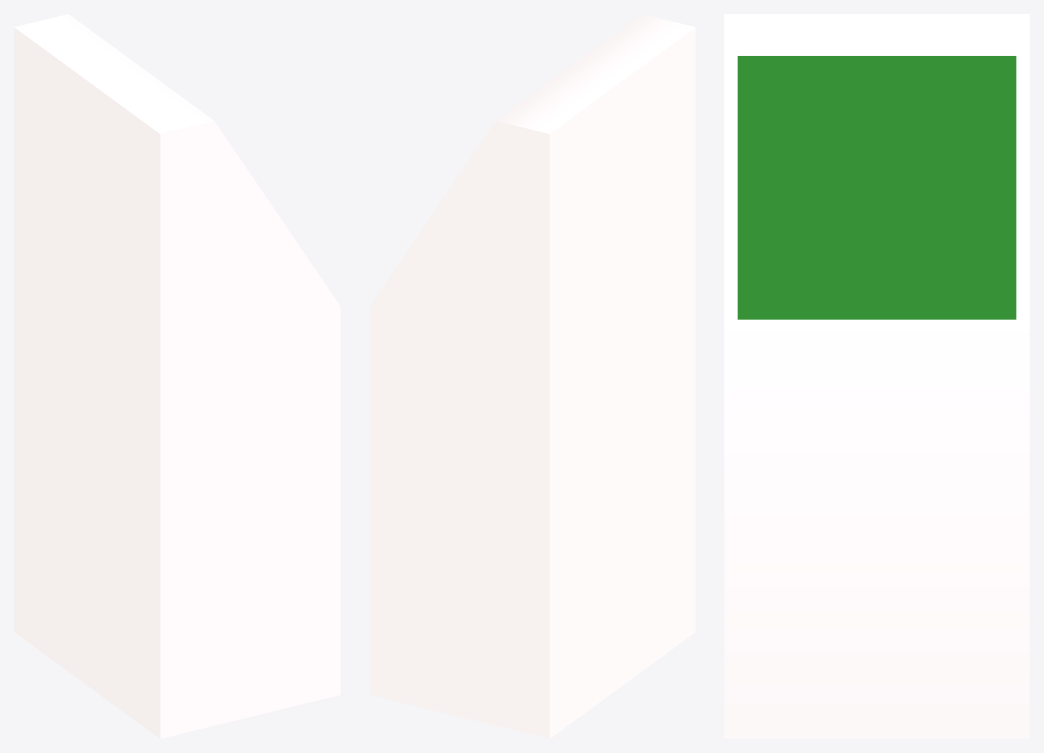
Rendered from Door_Switch_Active.fbx.
3 renders of one model, left to right at view 1: azimuth 30°, elevation 25°; view 2: azimuth 150°, elevation 25°; view 3: azimuth 270°, elevation 25°, orthographic. The views are drawn at different scales.
Parts seen in each view (by area): view 1: Zvysok; view 2: Zvysok; view 3: Zvysok, Display.
Part boxes in pixels (x1=…): Zvysok: x1=14, y1=14, x2=340, y2=738; Zvysok: x1=369, y1=14, x2=695, y2=738; Zvysok: x1=724, y1=14, x2=1029, y2=738; Display: x1=737, y1=56, x2=1016, y2=319.
Bounding box in the file's own units: 100 × 320 × 140.
